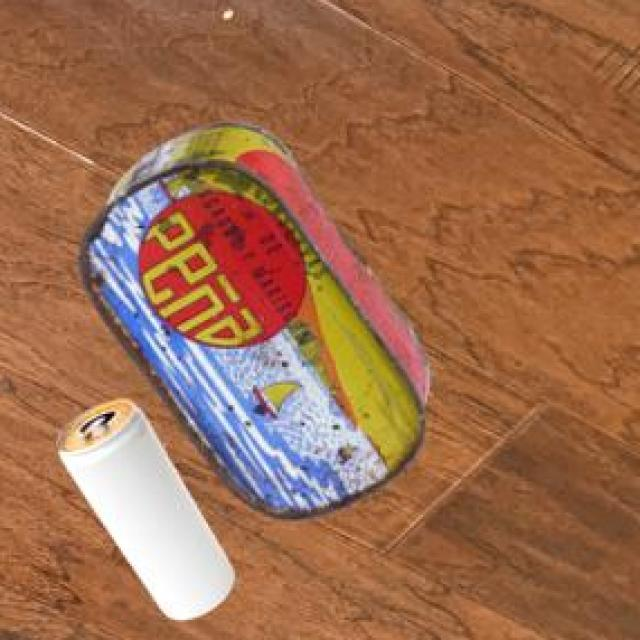logam: (84, 126, 433, 523), (64, 402, 238, 623)
